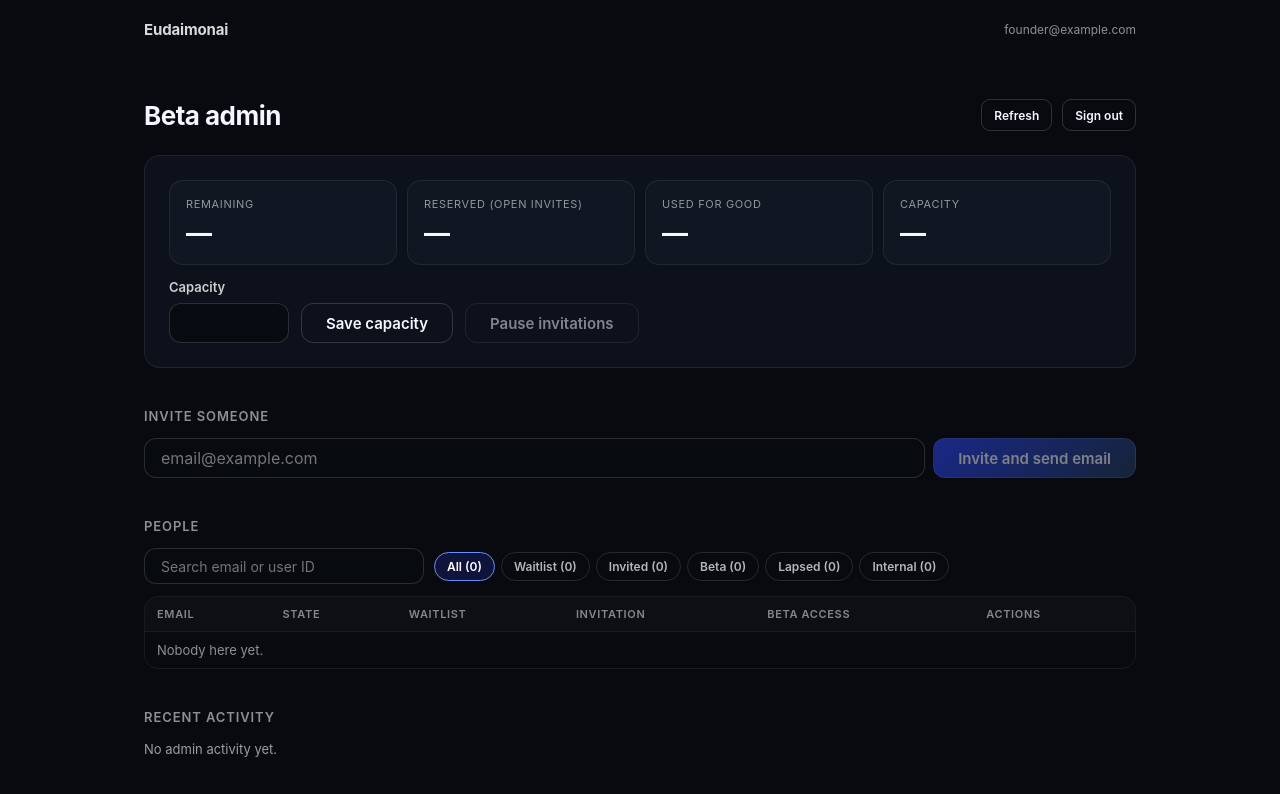
it: AdminConsole › shows the capacity reason when an invite is refused
The image size is (1280, 794).
Step 1. Type "new@example.com" into the field named "Email to invite" → (535, 458), box [144, 438, 925, 478]
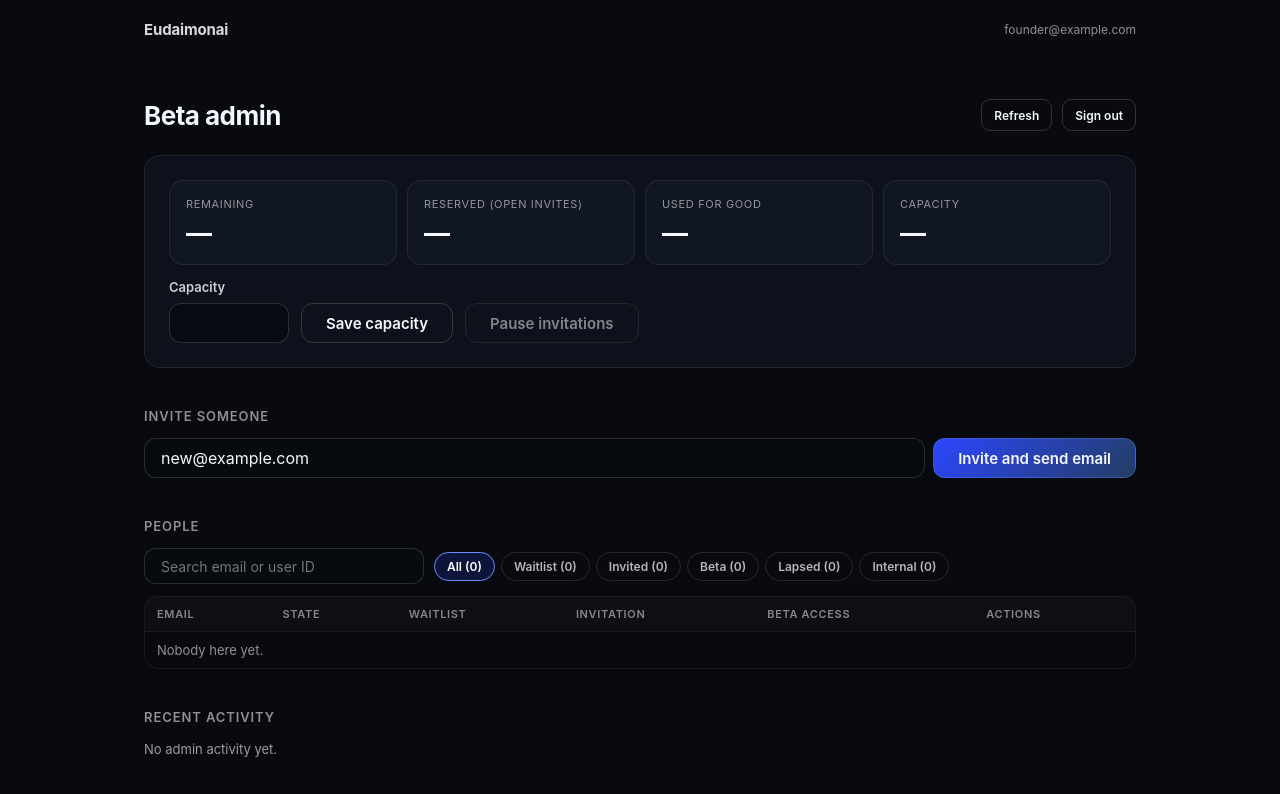
Step 2. Click the button "Invite and send email" → (1035, 458), box [933, 438, 1136, 478]
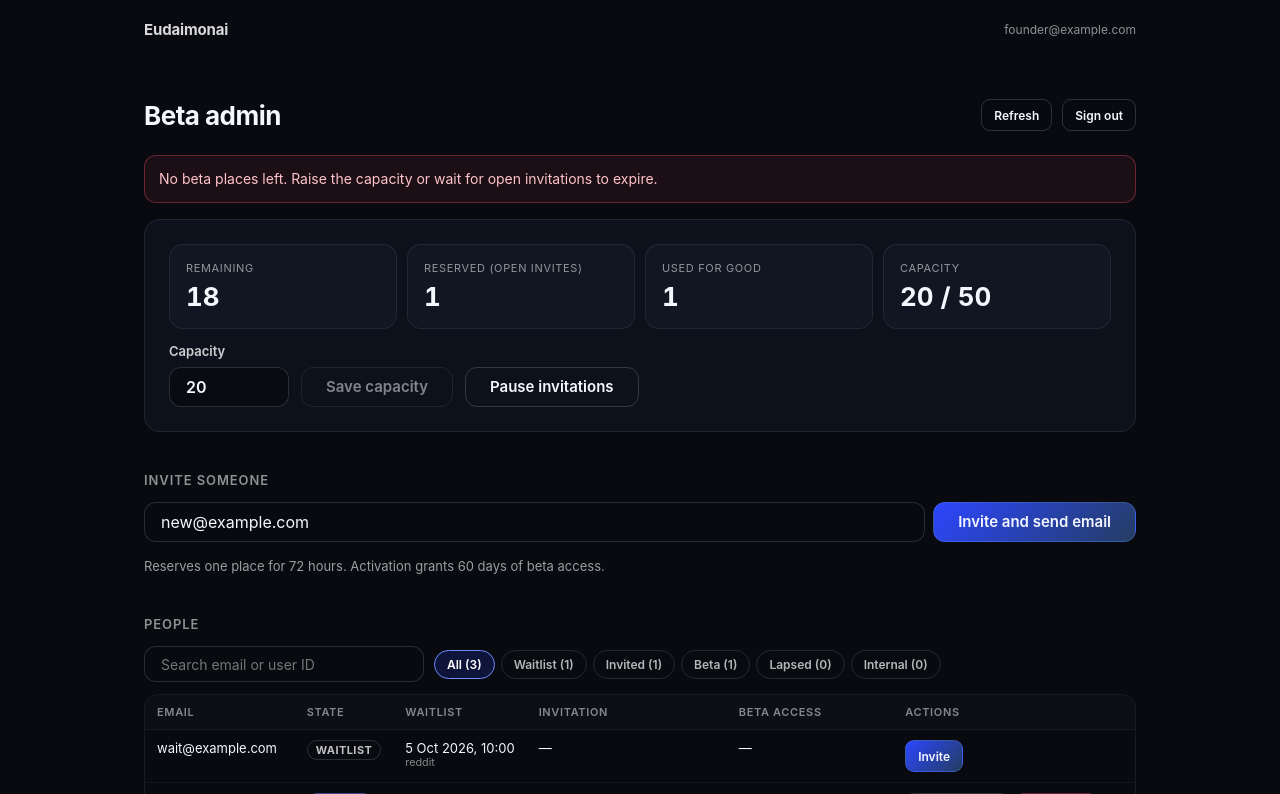
Expected: the message shows "No beta places left", [159, 170, 658, 187]
